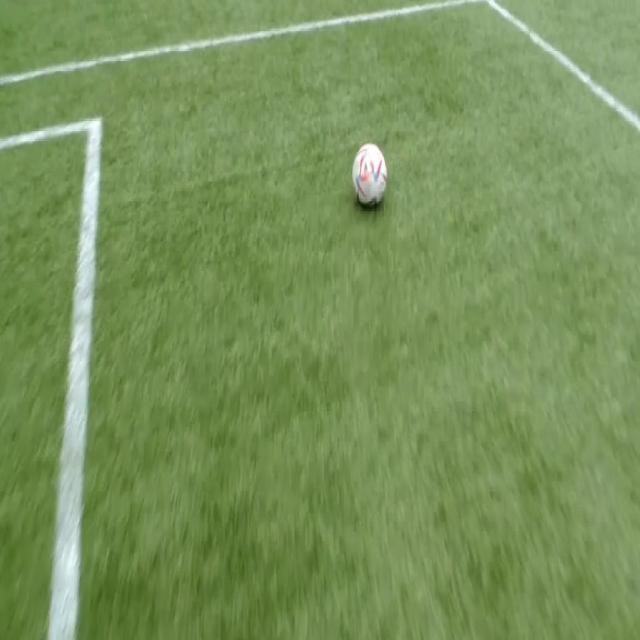ball: (354, 141, 387, 207)
